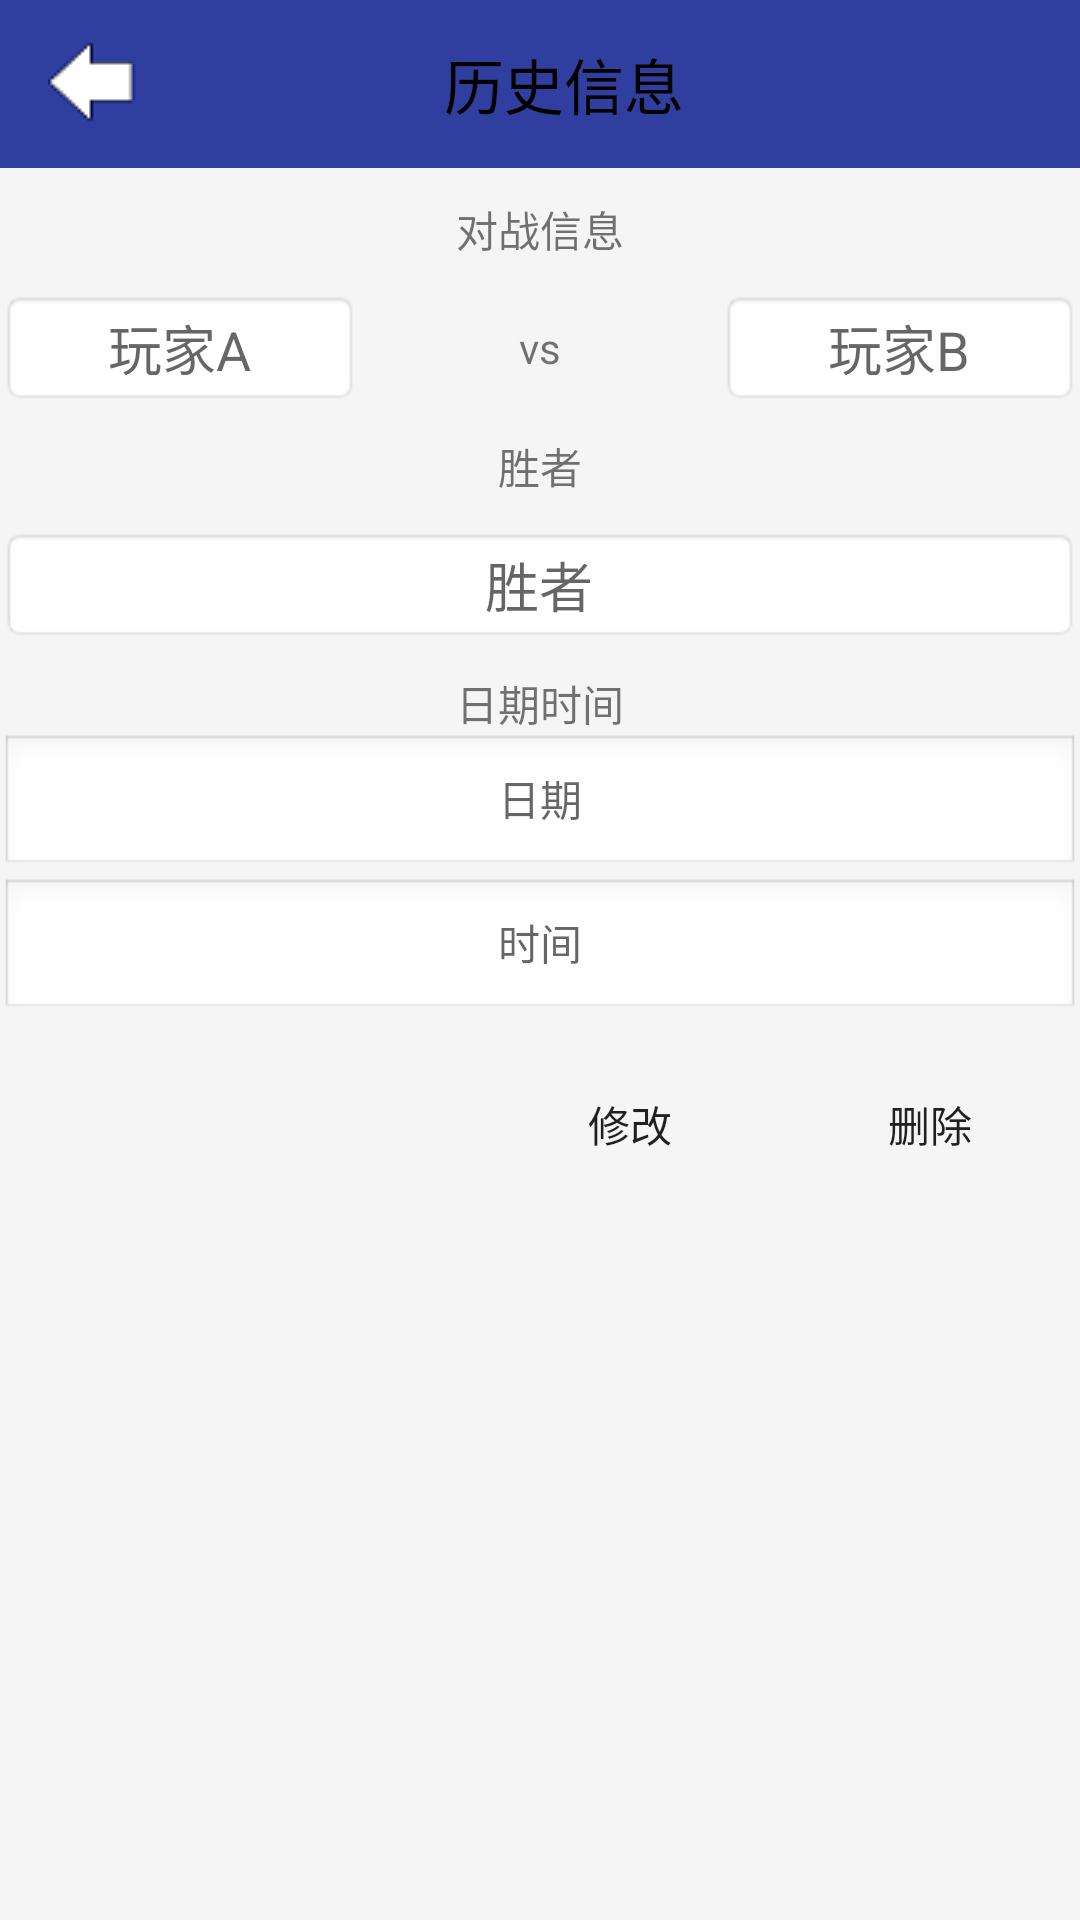

Named icons in this screenshot (1080w x 1920h) and their centers, point (x, y):
返回: point (91, 82)
